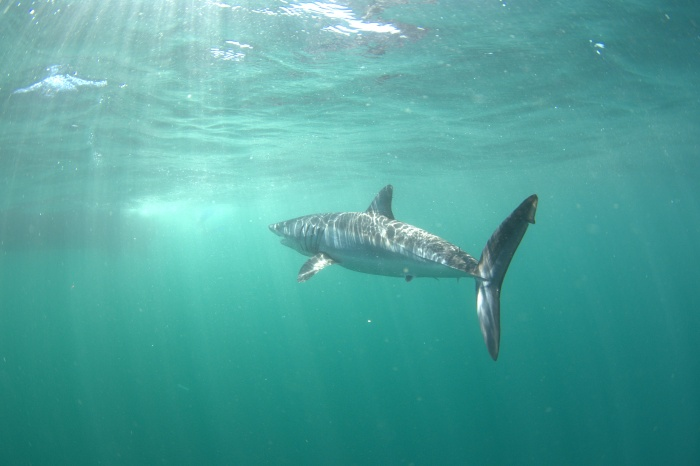Mako: (252, 179, 561, 375)
